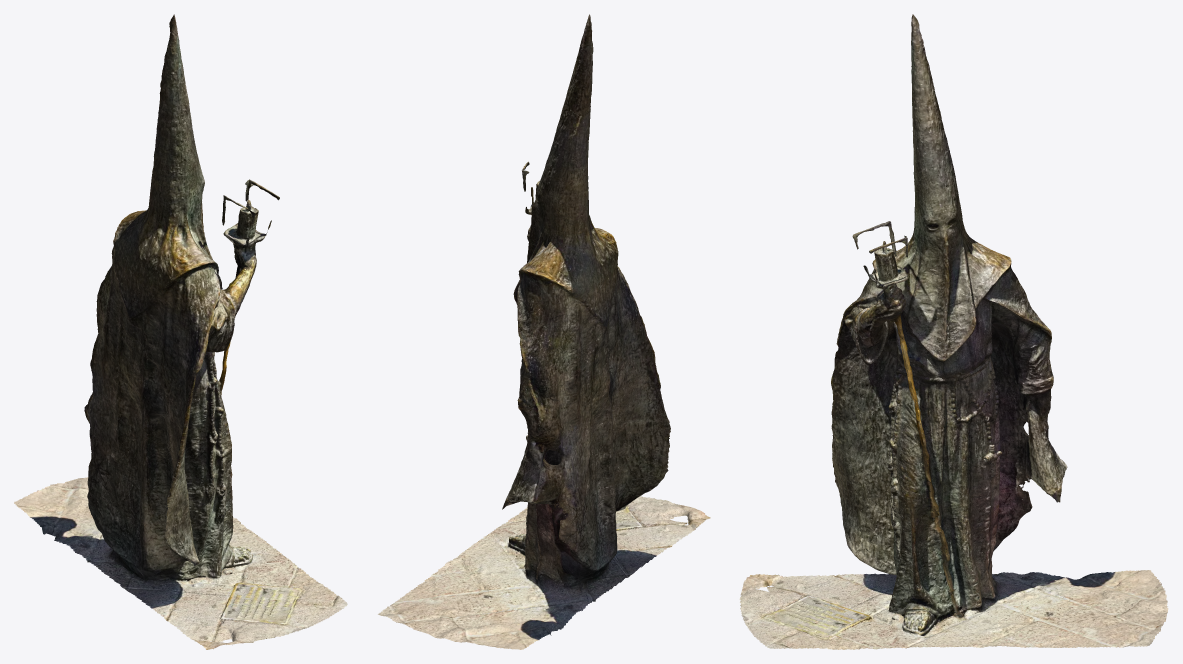
The model's file is elcofrade.glb.
The picture shows the model from 3 angles, left to right: view 1: azimuth 30°, elevation 25°; view 2: azimuth 150°, elevation 25°; view 3: azimuth 270°, elevation 25°; orthographic projection. The views are drawn at different scales.
Bounding box in the file's own units: 0.8685 × 3.11 × 2.05.
1 material, 1 textured.
